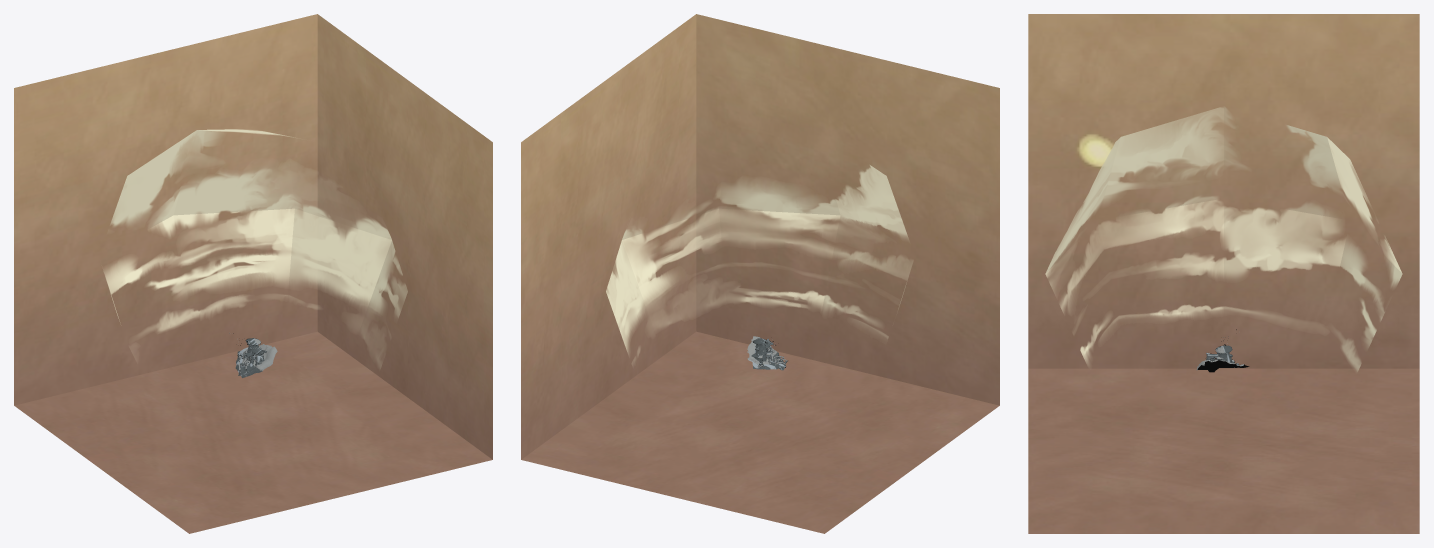
3 views of the same model, side by side, from view 1: azimuth 30°, elevation 25°; view 2: azimuth 150°, elevation 25°; view 3: azimuth 270°, elevation 25° (orthographic). The views are drawn at different scales.
Parts seen in each view (by area): view 1: skybox, clouds, wm; view 2: skybox, clouds, wm; view 3: skybox, clouds.
Part boxes in pixels (left/top/right/bottom): skybox: left=14, top=14, right=492, bottom=533; clouds: left=103, top=129, right=407, bottom=368; wm: left=229, top=333, right=277, bottom=377; skybox: left=521, top=14, right=999, bottom=533; clouds: left=606, top=165, right=912, bottom=364; wm: left=747, top=336, right=787, bottom=370; skybox: left=1028, top=14, right=1419, bottom=533; clouds: left=1045, top=107, right=1402, bottom=371.
Size of the model in its own units: 66.34 by 66.34 by 66.34.
